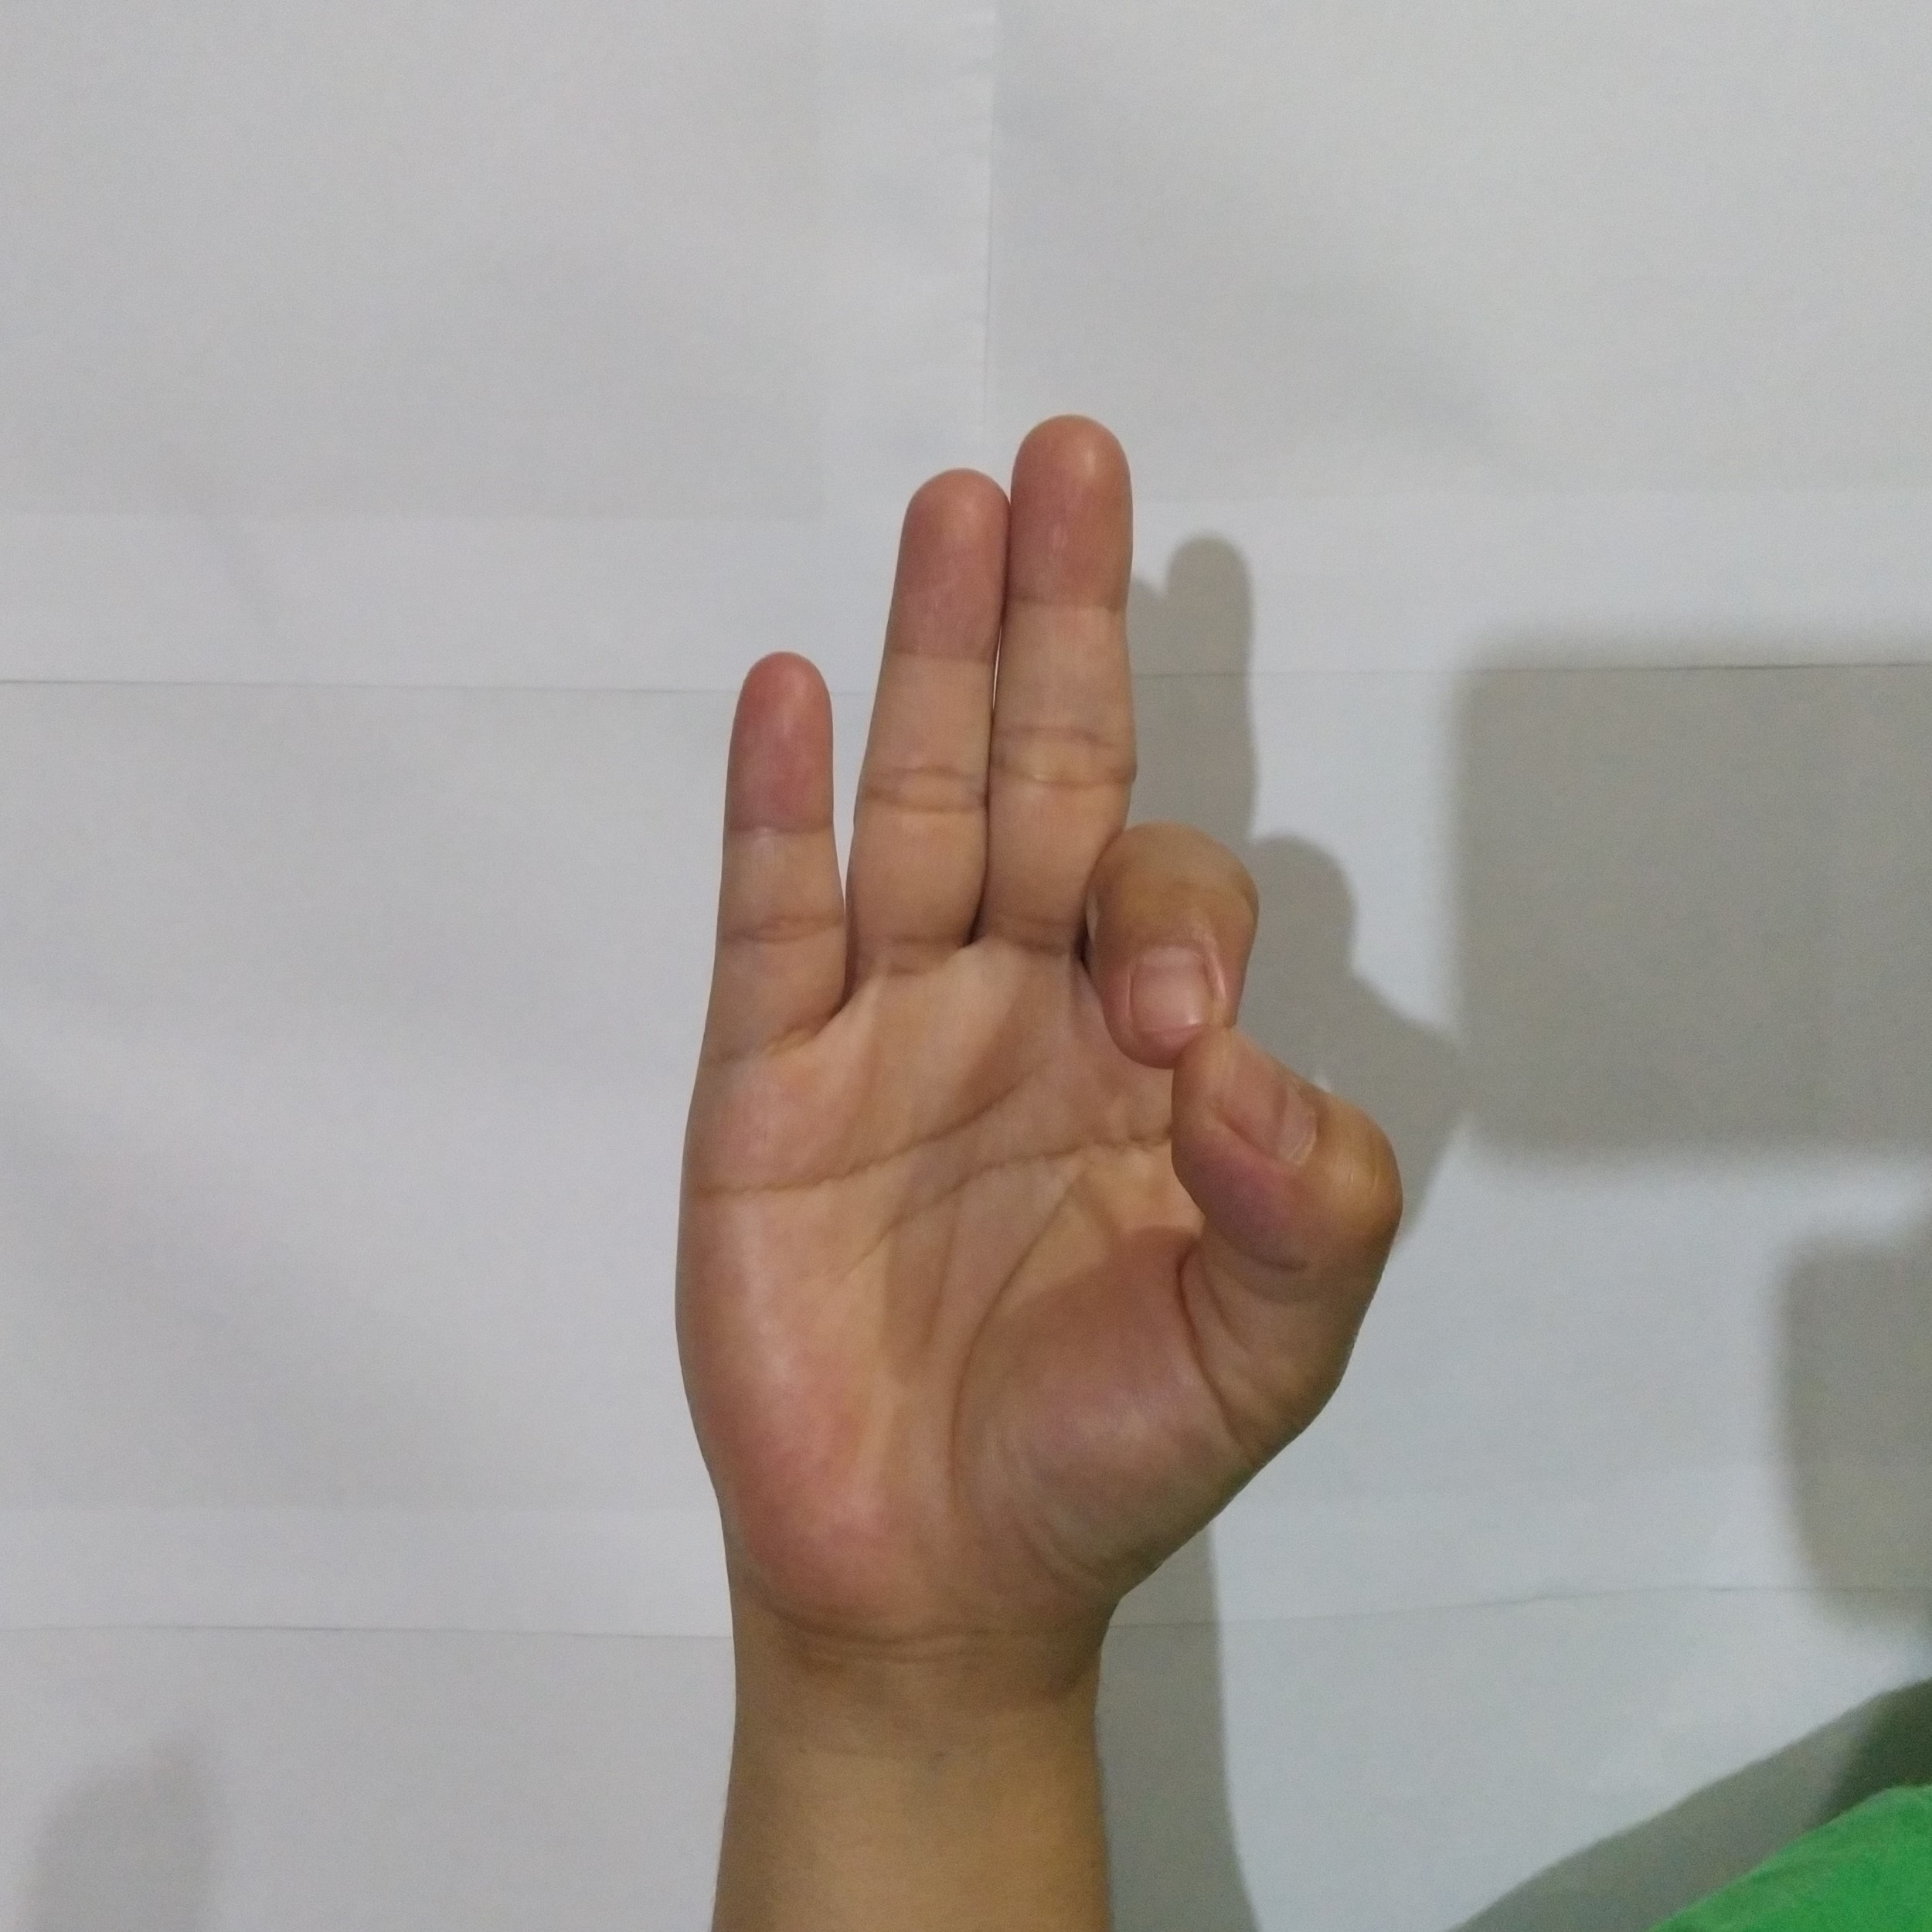F: (653, 393, 1421, 1621)
